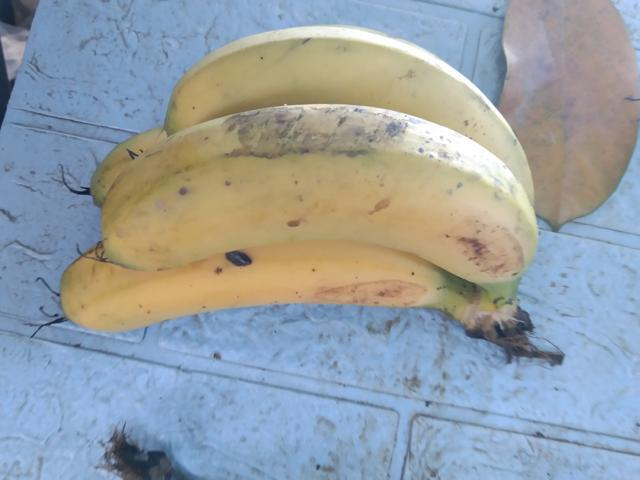ripe: (89, 99, 537, 288)
